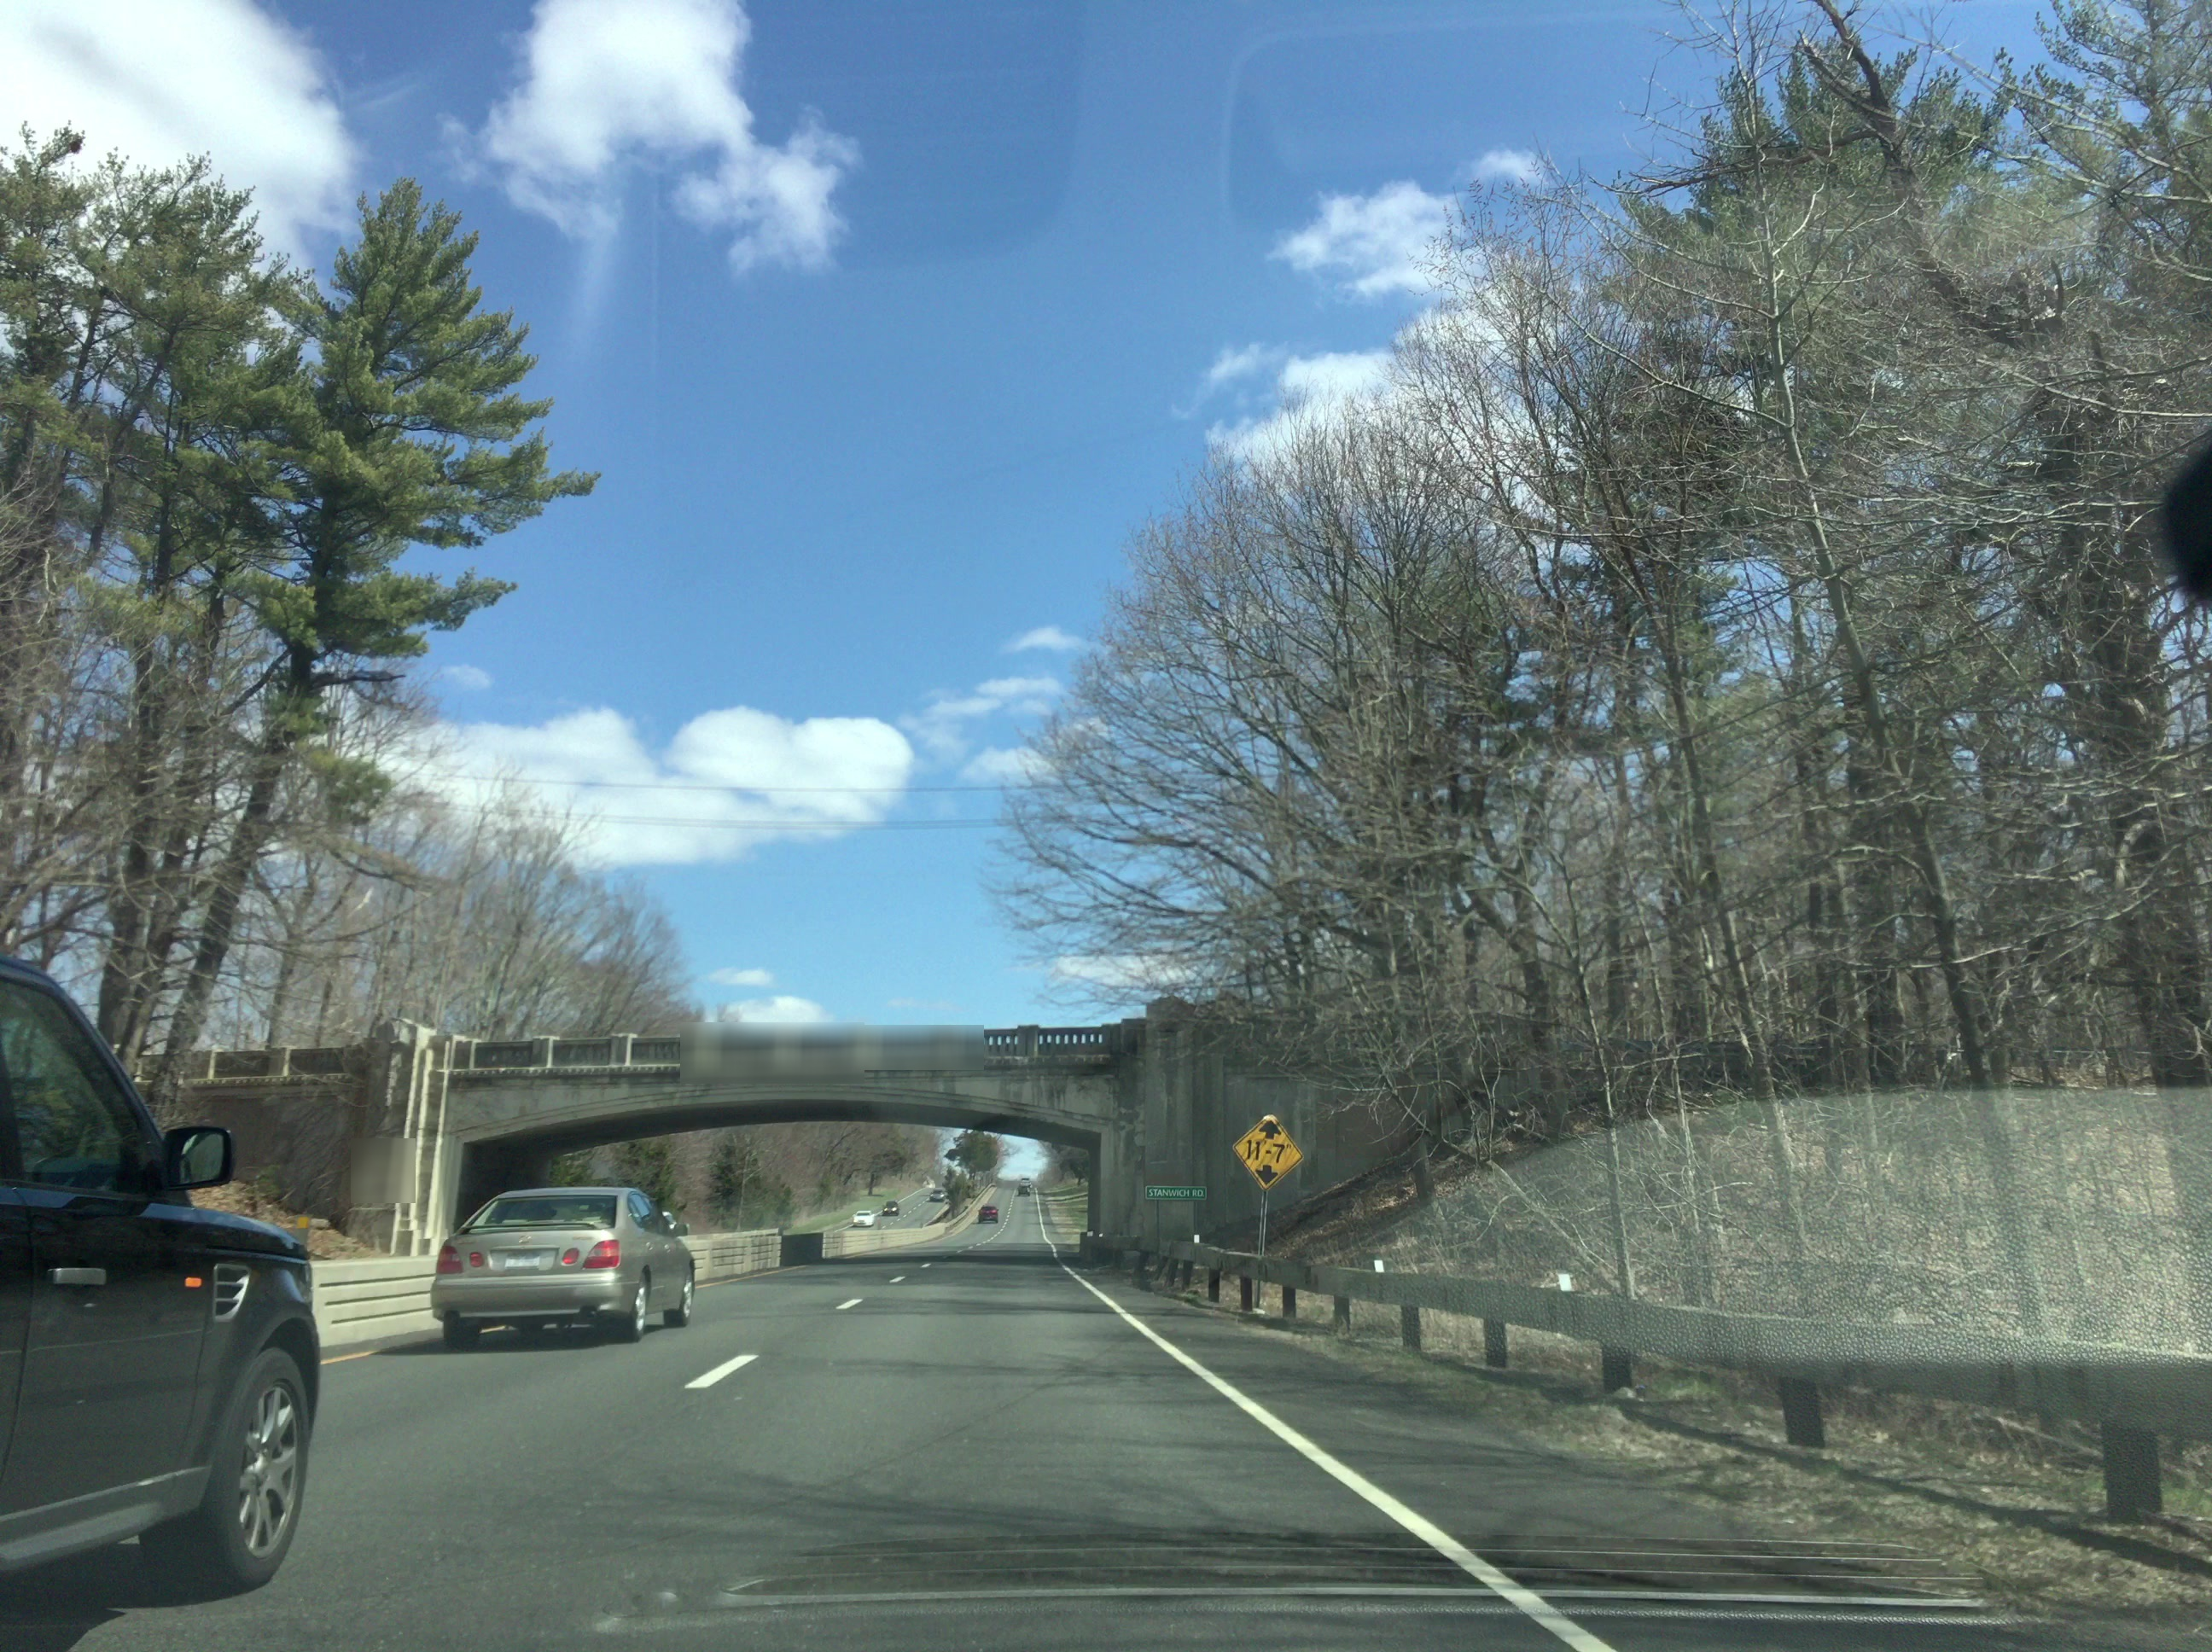low-clearance-sign: (1232, 1114, 1305, 1192)
